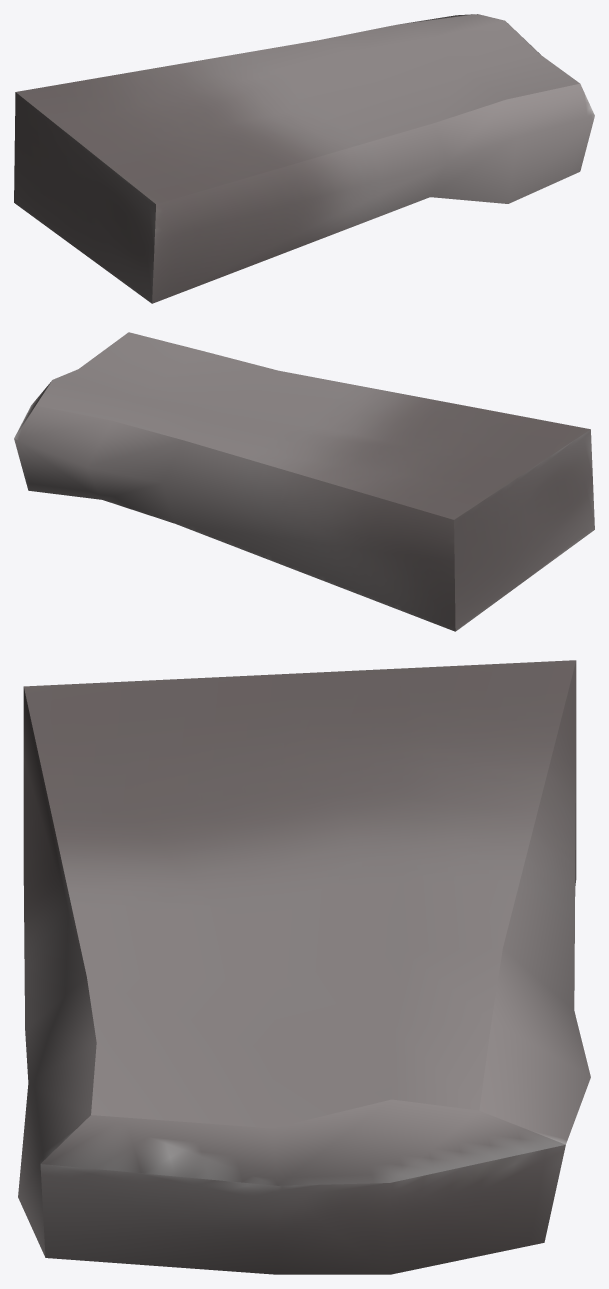
Rendered from animated_Rock_for_Moving_Platform.fbx.
3 renders of one model, top to bottom at view 1: azimuth 30°, elevation 25°; view 2: azimuth 150°, elevation 25°; view 3: azimuth 270°, elevation 25°, orthographic. The views are drawn at different scales.
Parts seen in each view (by area): view 1: movingrocks2; view 2: movingrocks2; view 3: movingrocks2.
Part boxes in pixels (x1,y1,x2,y2): movingrocks2: (14, 14, 594, 303); movingrocks2: (14, 332, 594, 631); movingrocks2: (18, 660, 590, 1274).
Size of the model in its own units: 1185 by 268 by 630.
1 material, 1 textured.
